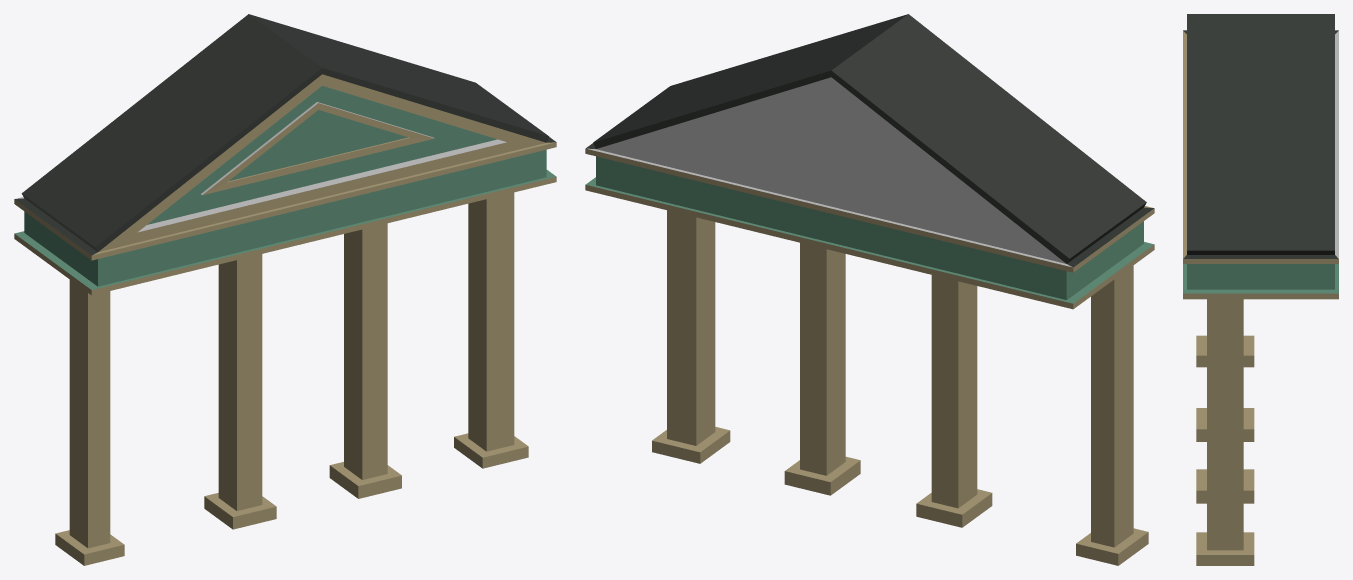
Rendered from house-18.glb.
3 views of the same model, side by side, from view 1: azimuth 30°, elevation 25°; view 2: azimuth 150°, elevation 25°; view 3: azimuth 270°, elevation 25° (orthographic). The views are drawn at different scales.
Bounding box in the file's own units: 2.58 × 2.35 × 0.741.
